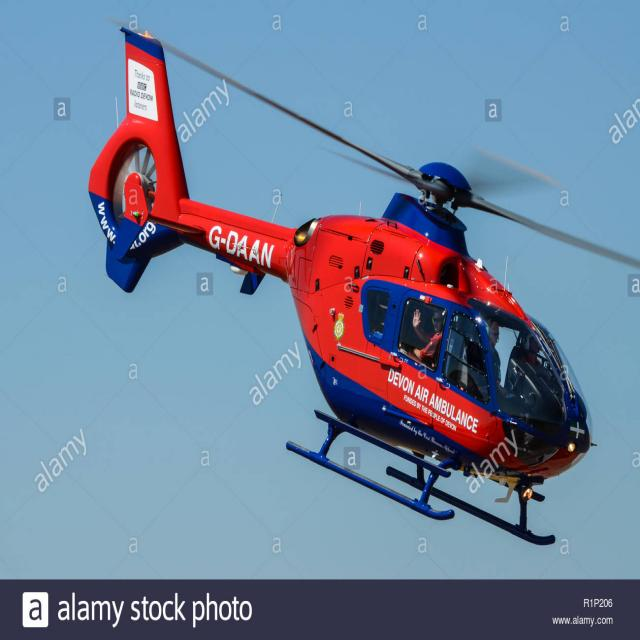helicopter: (87, 28, 639, 545)
